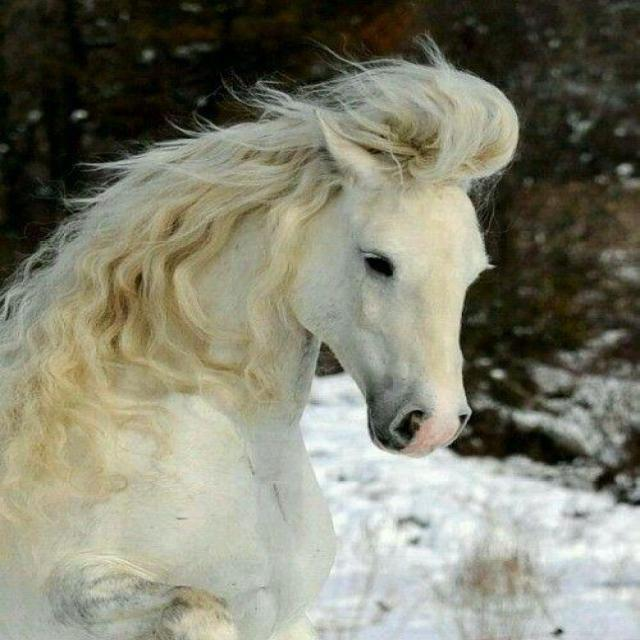horse: (0, 30, 520, 639)
